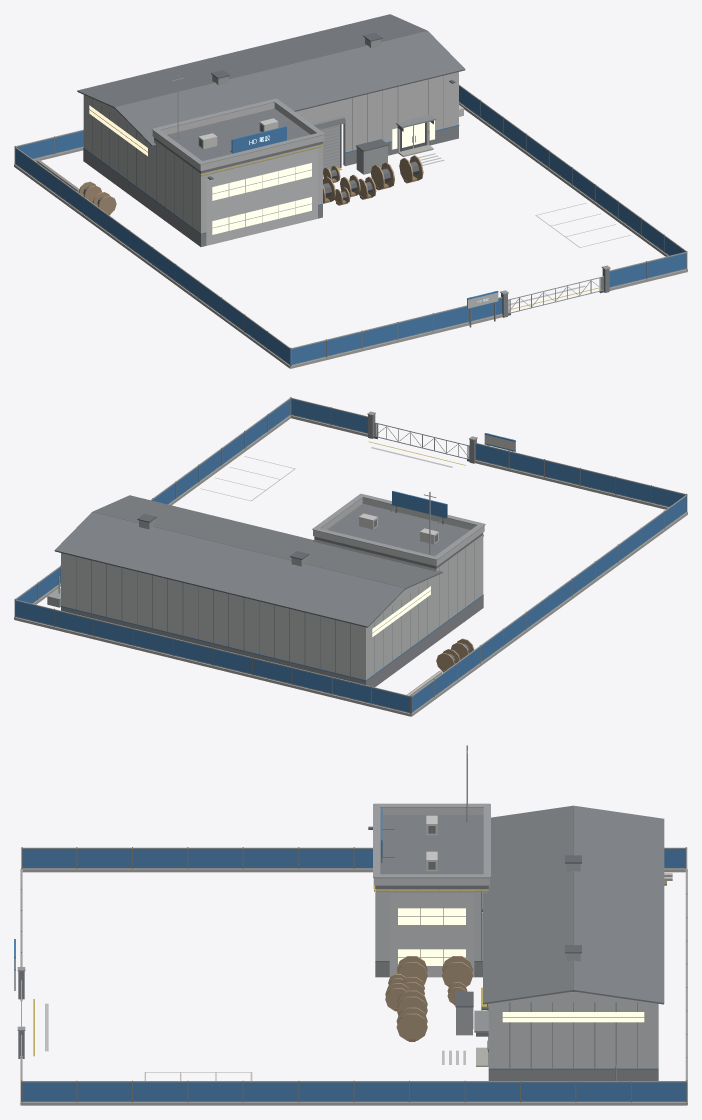
The model's file is biz_4010.glb.
3 renders of one model, top to bottom at view 1: azimuth 30°, elevation 25°; view 2: azimuth 150°, elevation 25°; view 3: azimuth 270°, elevation 25°, orthographic. The views are drawn at different scales.
Parts seen in each view (by area): view 1: Static, Windows, Shutter_Down, Gate_Closed; view 2: Static, Windows, Gate_Closed; view 3: Static, Windows.
Boxes of the visible parts, x1,y1,x2,y2 form: Static: (14, 14, 687, 368); Windows: (89, 105, 434, 234); Shutter_Down: (320, 125, 339, 170); Gate_Closed: (508, 277, 604, 315); Static: (14, 397, 687, 716); Windows: (372, 586, 430, 636); Gate_Closed: (373, 423, 469, 461); Static: (14, 745, 687, 1105); Windows: (398, 908, 644, 1022).
Bounding box in the file's own units: 39.16 × 13.18 × 47.6.
